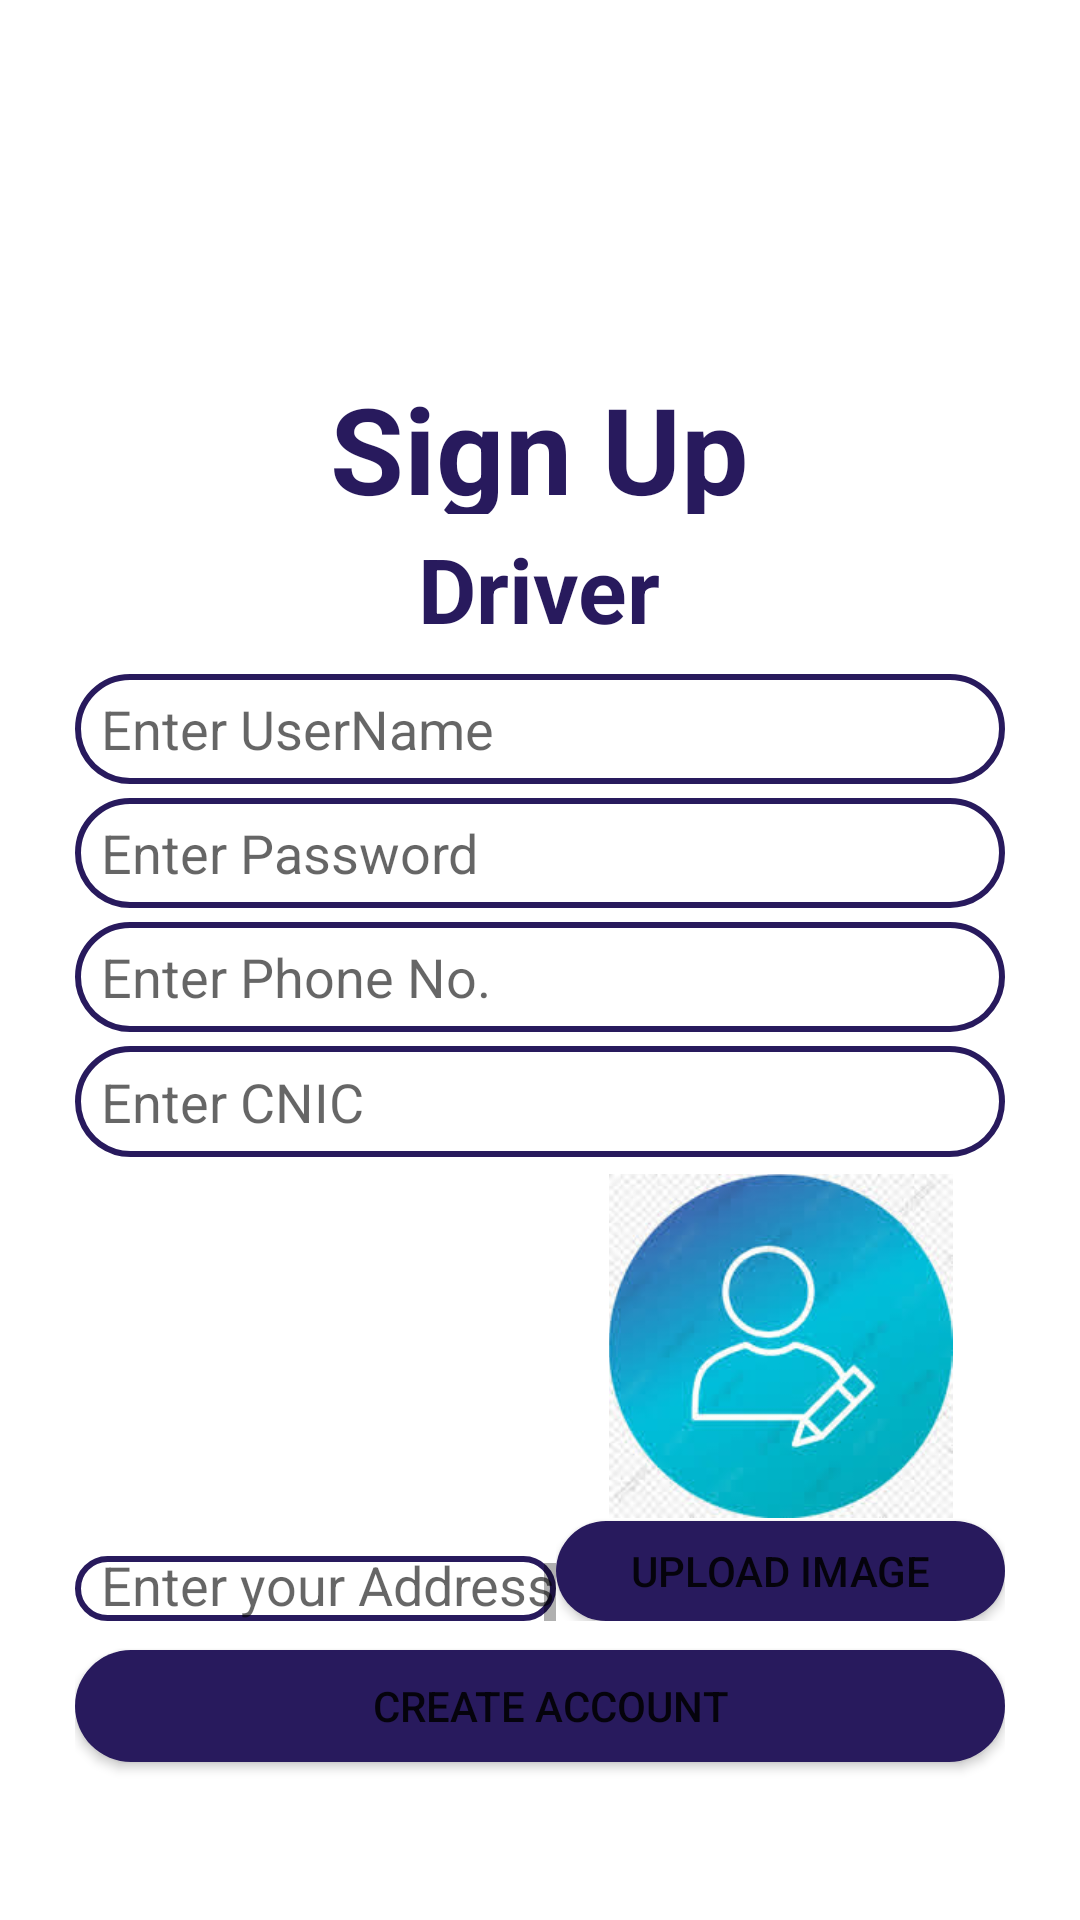

Where to tap for icons on this 1080*1920 app screen, as (x,y):
profile: (781,1346)
